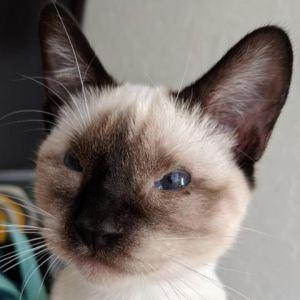siamese: (12, 1, 300, 300)
